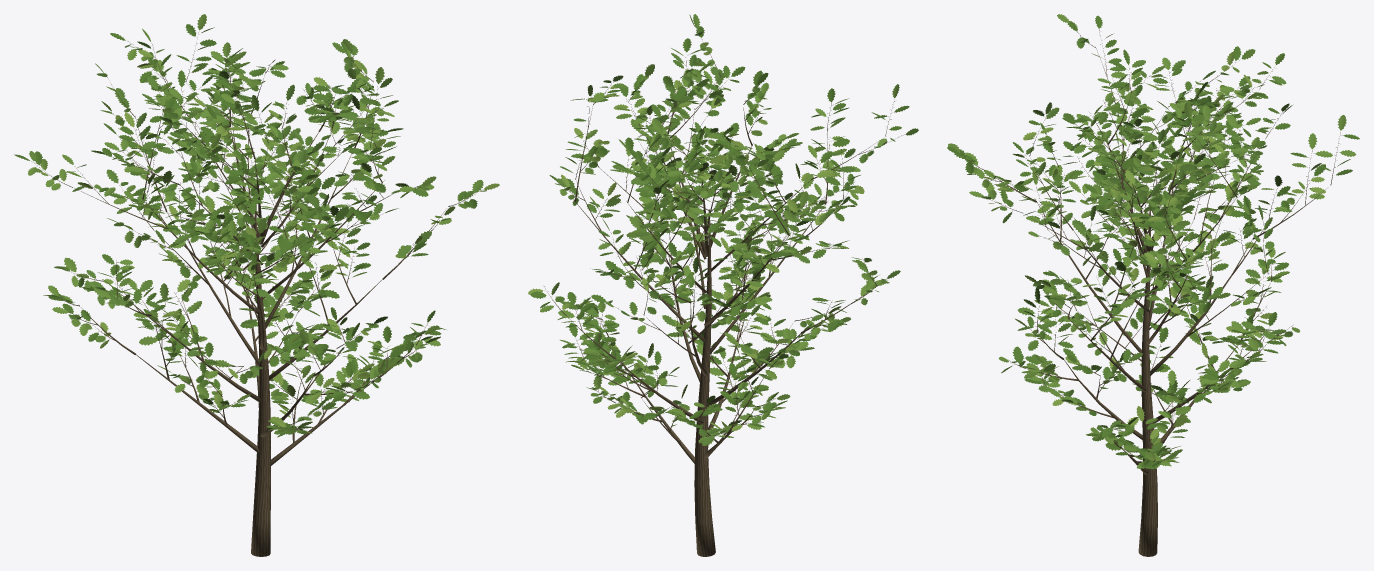
File: Sessile_Oak_Young_01_Unpruned_LOD1.fbx
3 renders of one model, left to right at view 1: azimuth 30°, elevation 25°; view 2: azimuth 150°, elevation 25°; view 3: azimuth 270°, elevation 25°, orthographic. The views are drawn at different scales.
Parts seen in each view (by area): view 1: Sessile_Oak_Young_01_Unpruned_LOD1; view 2: Sessile_Oak_Young_01_Unpruned_LOD1; view 3: Sessile_Oak_Young_01_Unpruned_LOD1.
Boxes of the visible parts, box(x1,y1,x2,y2) form: Sessile_Oak_Young_01_Unpruned_LOD1: box(14, 14, 499, 556); Sessile_Oak_Young_01_Unpruned_LOD1: box(528, 14, 918, 556); Sessile_Oak_Young_01_Unpruned_LOD1: box(947, 14, 1359, 556).
Bounding box in the file's own units: 632 × 799 × 620.
Materials: 5 (1 with a texture image).
